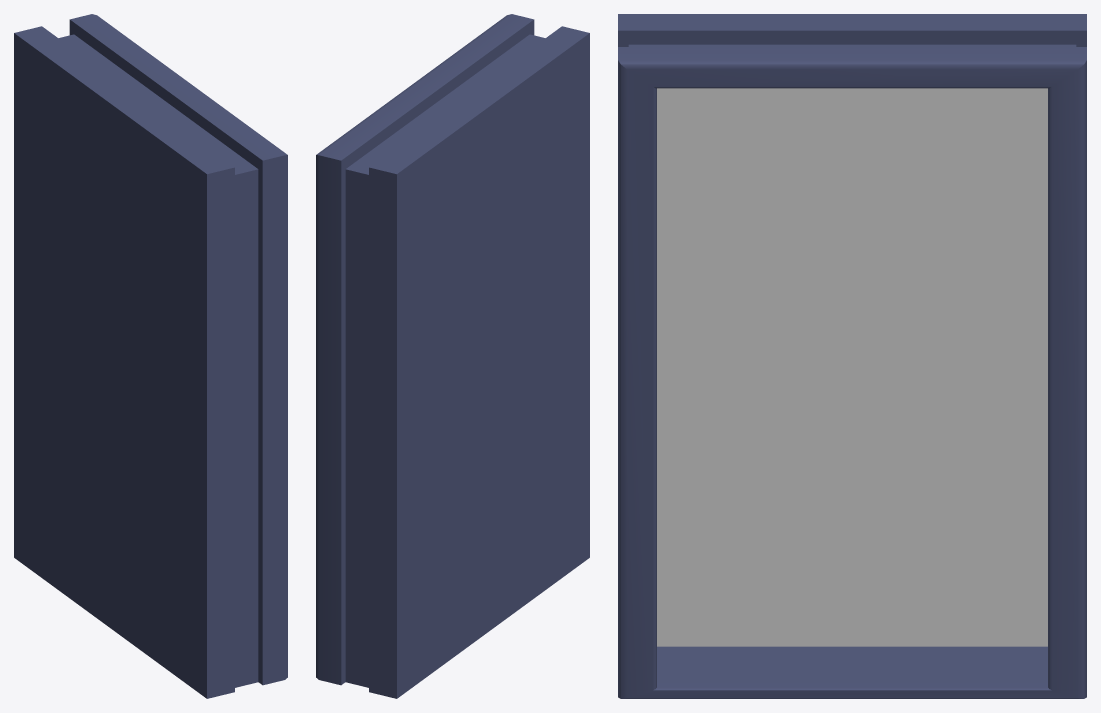
The model's file is LevelDoor.fbx.
The picture shows the model from 3 angles, left to right: view 1: azimuth 30°, elevation 25°; view 2: azimuth 150°, elevation 25°; view 3: azimuth 270°, elevation 25°; orthographic projection. The views are drawn at different scales.
Visible parts, largest first — view 1: Cube; view 2: Cube; view 3: Cube.
Boxes of the visible parts, x1,y1,x2,y2 form: Cube: (14, 14, 287, 698); Cube: (316, 14, 589, 698); Cube: (618, 14, 1086, 698).
Size of the model in its own units: 50.13 by 300 by 200.
